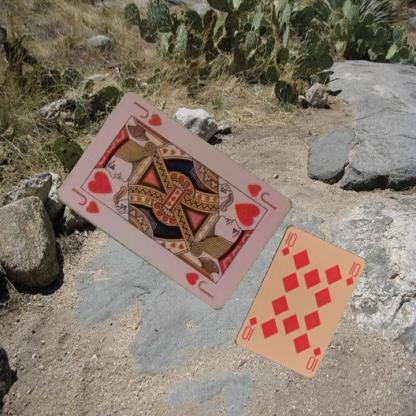10d: (279, 229, 298, 257), (303, 344, 322, 371)
Jh: (68, 184, 101, 216), (244, 181, 278, 211)
